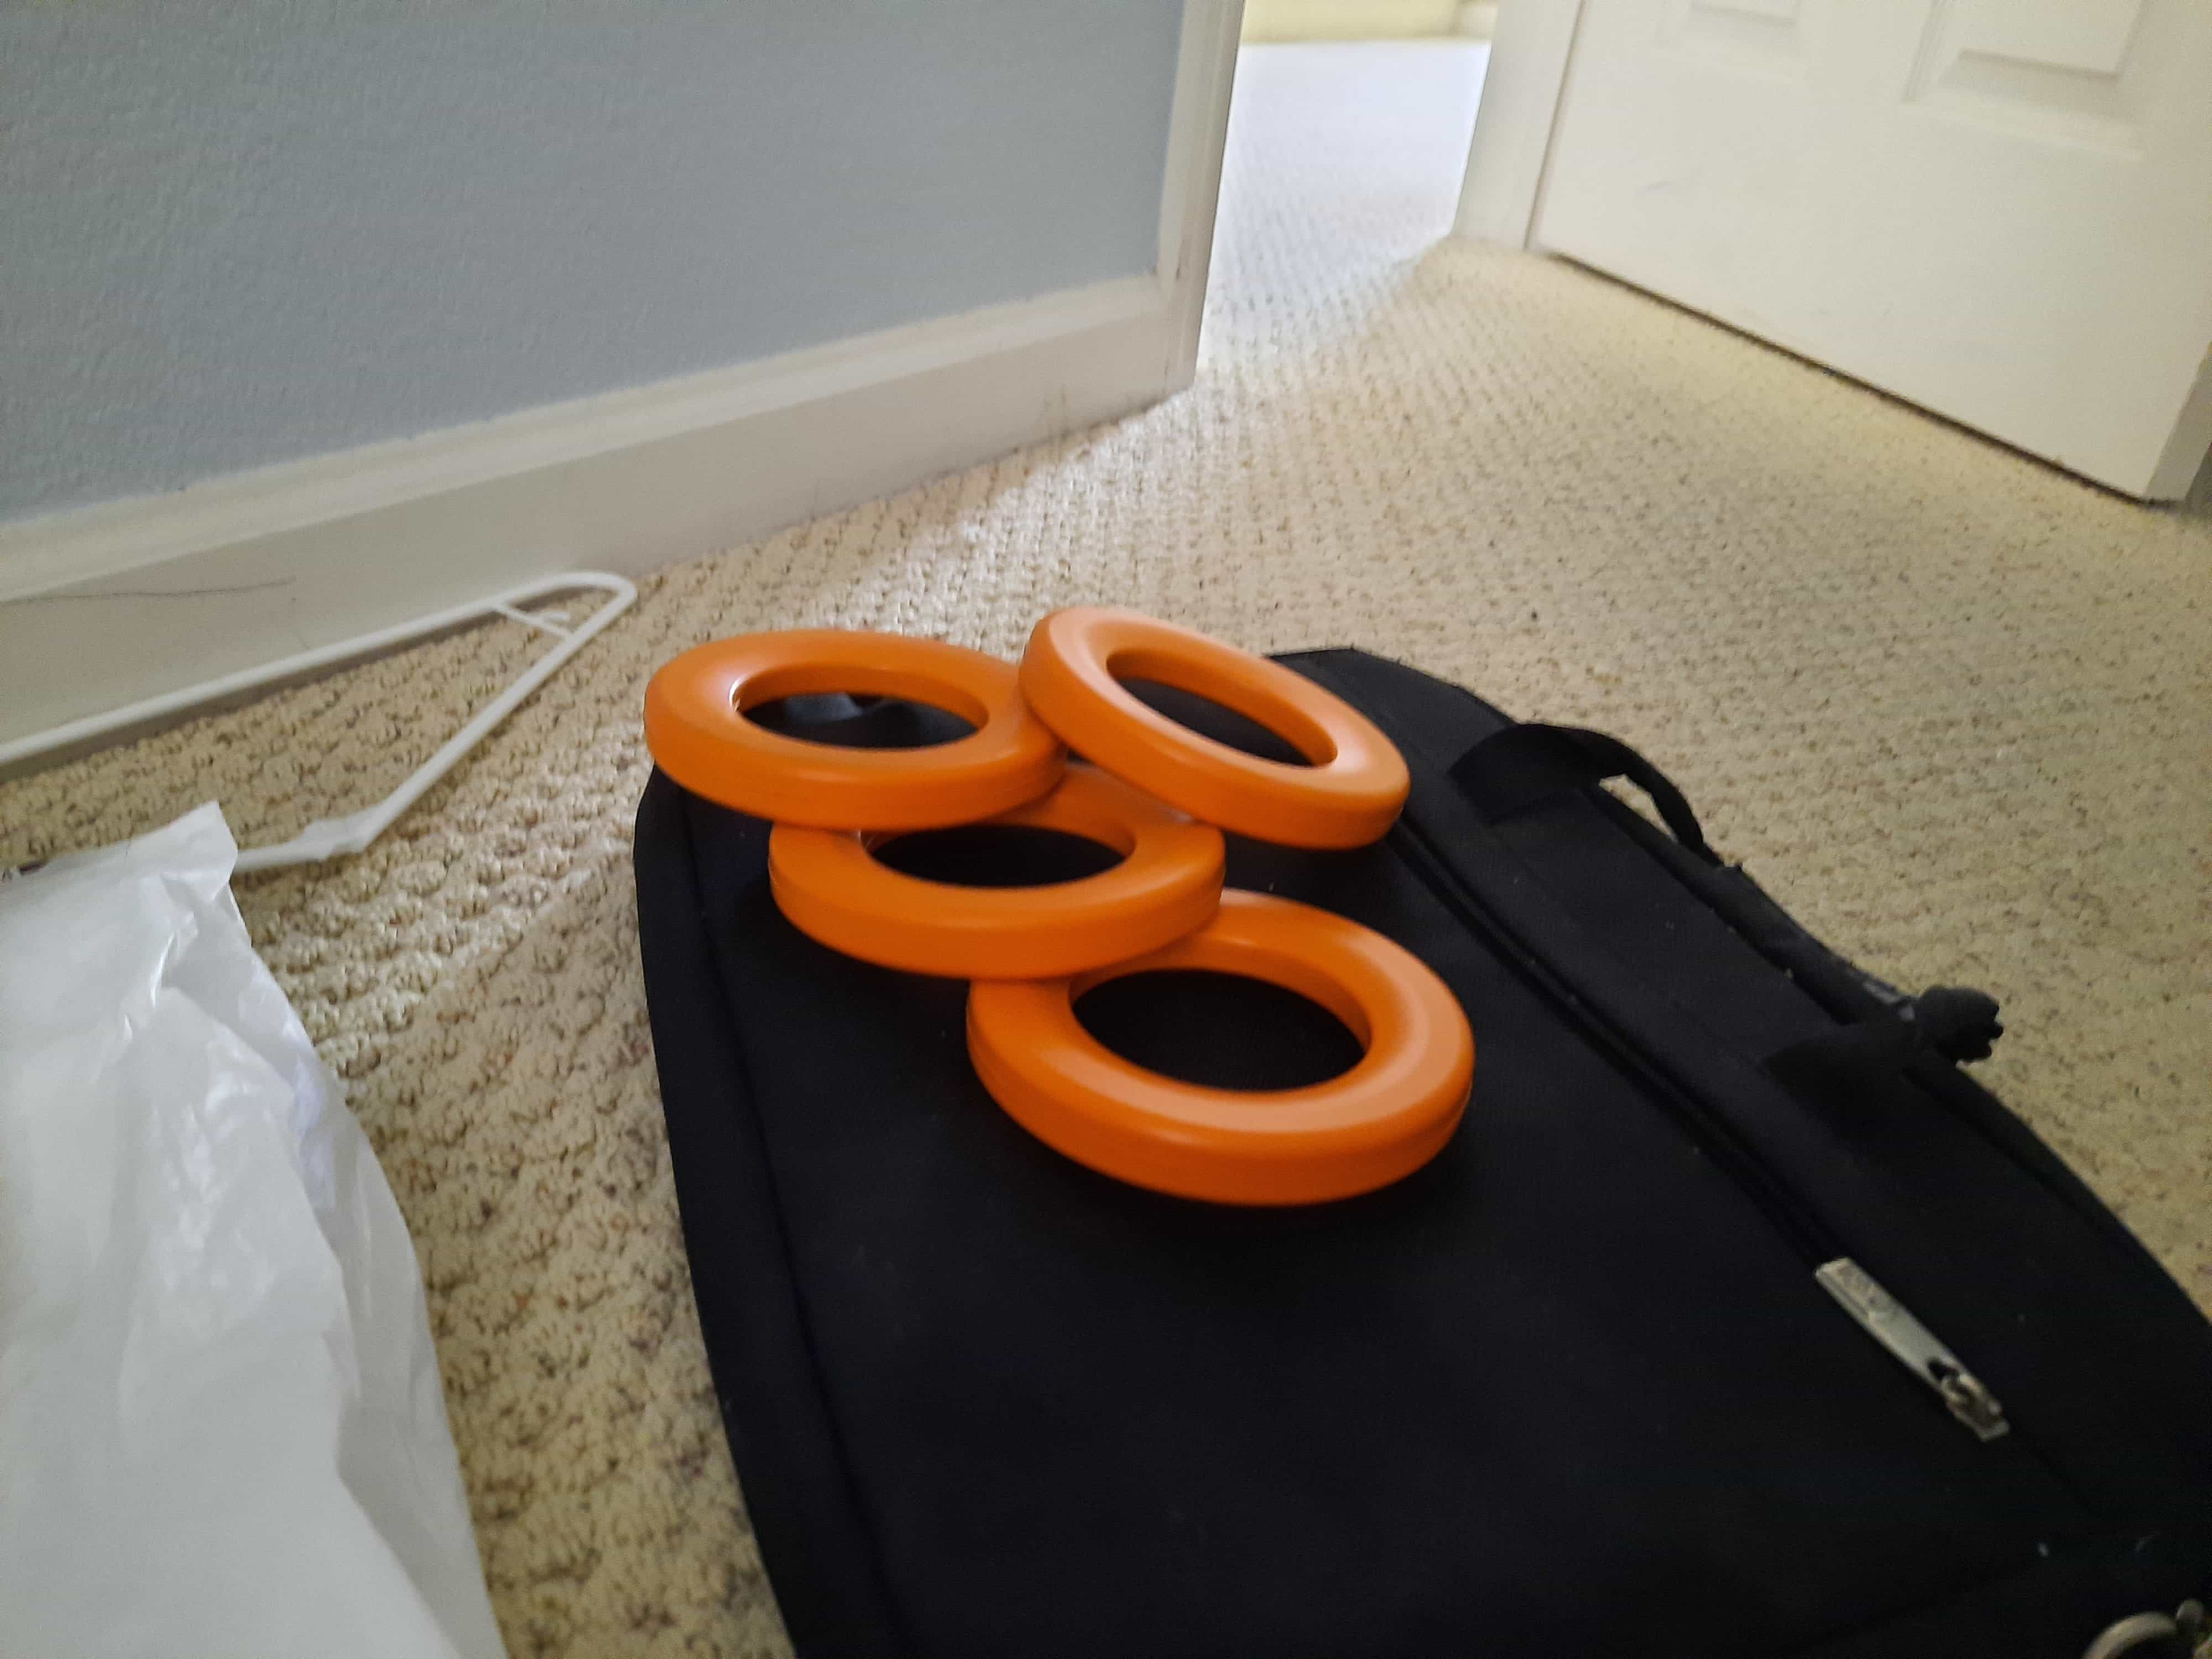OneStack: (948, 904, 1474, 1204), (1019, 608, 1413, 849), (648, 620, 1047, 833), (766, 807, 1214, 983)
